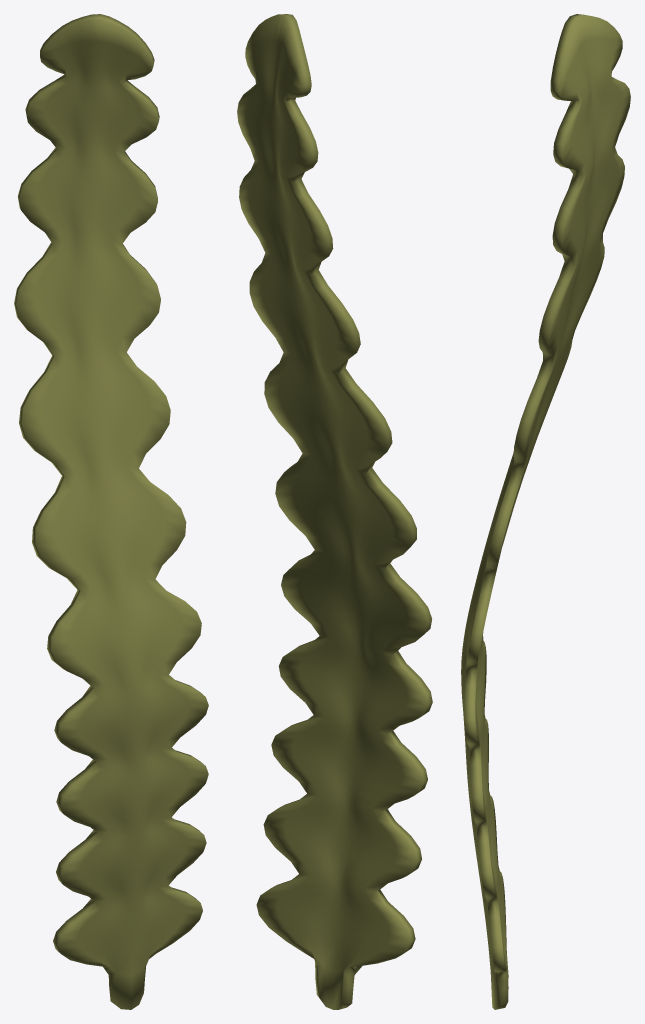
Rendered from Seagweeds 21.fbx.
3 views of the same model, side by side, from view 1: azimuth 30°, elevation 25°; view 2: azimuth 150°, elevation 25°; view 3: azimuth 270°, elevation 25° (orthographic). The views are drawn at different scales.
Visible parts, largest first — view 1: Seaweed1; view 2: Seaweed1; view 3: Seaweed1.
Part boxes in pixels (x1,y1,x2,y2): Seaweed1: (14,14,208,1009); Seaweed1: (237,14,432,1009); Seaweed1: (461,14,630,1009).
Size of the model in its own units: 1.72 by 10.06 by 1.55.
